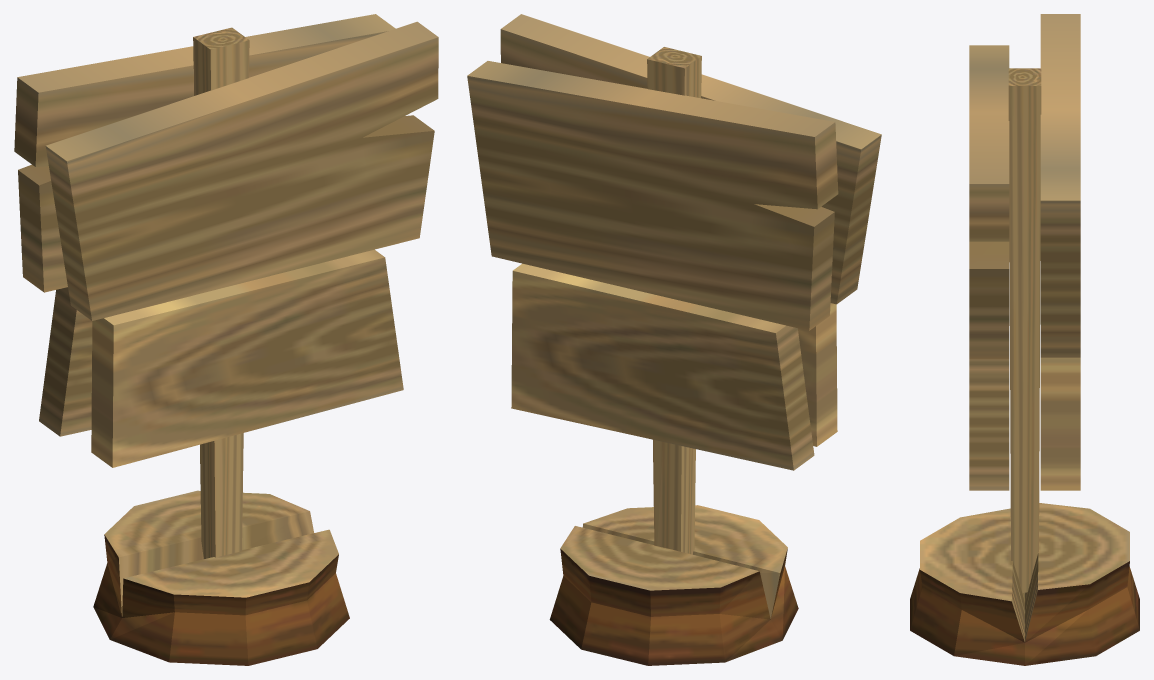
File: Wooden Sign.obj
3 renders of one model, left to right at view 1: azimuth 30°, elevation 25°; view 2: azimuth 150°, elevation 25°; view 3: azimuth 270°, elevation 25°, orthographic. The views are drawn at different scales.
Parts seen in each view (by area): view 1: n0b0; view 2: n0b0; view 3: n0b0.
Part boxes in pixels (<box>): n0b0: <box>14,14,438,665</box>; n0b0: <box>467,14,881,665</box>; n0b0: <box>910,14,1139,665</box>.
Size of the model in its own units: 4.92 by 7.25 by 2.81.
Materials: 1 (1 with a texture image).
